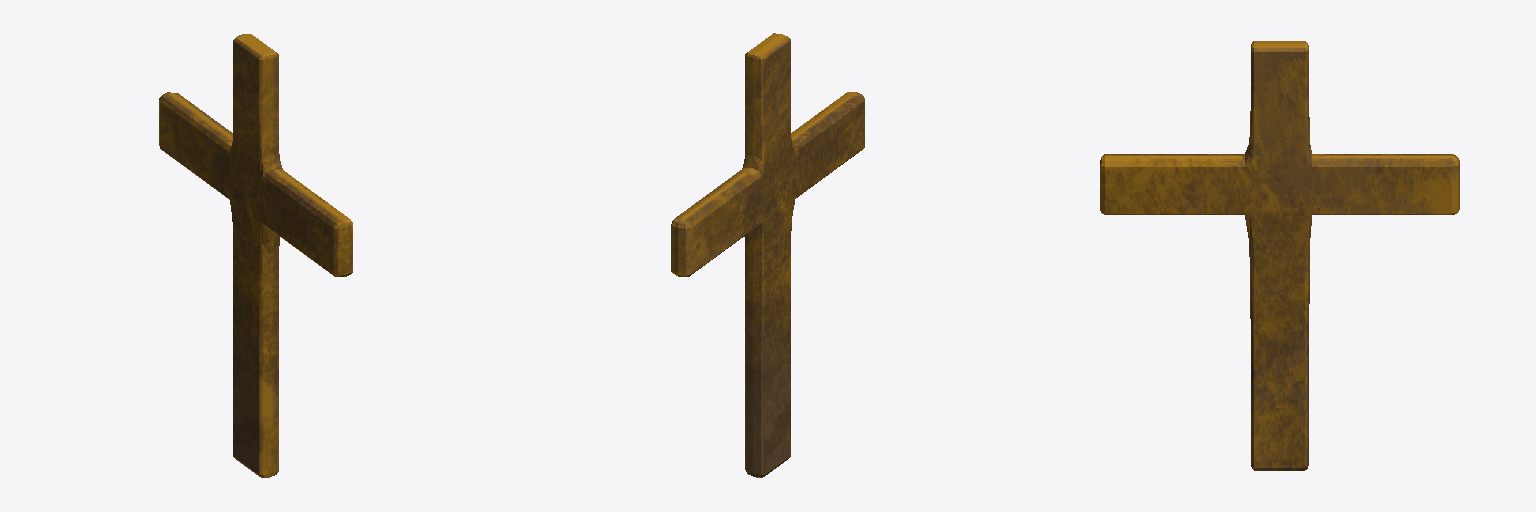
3 views of the same model, side by side, from view 1: azimuth 30°, elevation 25°; view 2: azimuth 150°, elevation 25°; view 3: azimuth 270°, elevation 25° (orthographic).
Parts seen in each view (by area): view 1: pCube1_initialShadingGroup; view 2: pCube1_initialShadingGroup; view 3: pCube1_initialShadingGroup.
Boxes of the visible parts, x1,y1,x2,y2 form: pCube1_initialShadingGroup: [159, 34, 352, 477]; pCube1_initialShadingGroup: [671, 33, 864, 477]; pCube1_initialShadingGroup: [1100, 41, 1459, 470].
Size of the model in its own units: 0.6378 by 12.85 by 9.89.
1 materials, 1 textured.